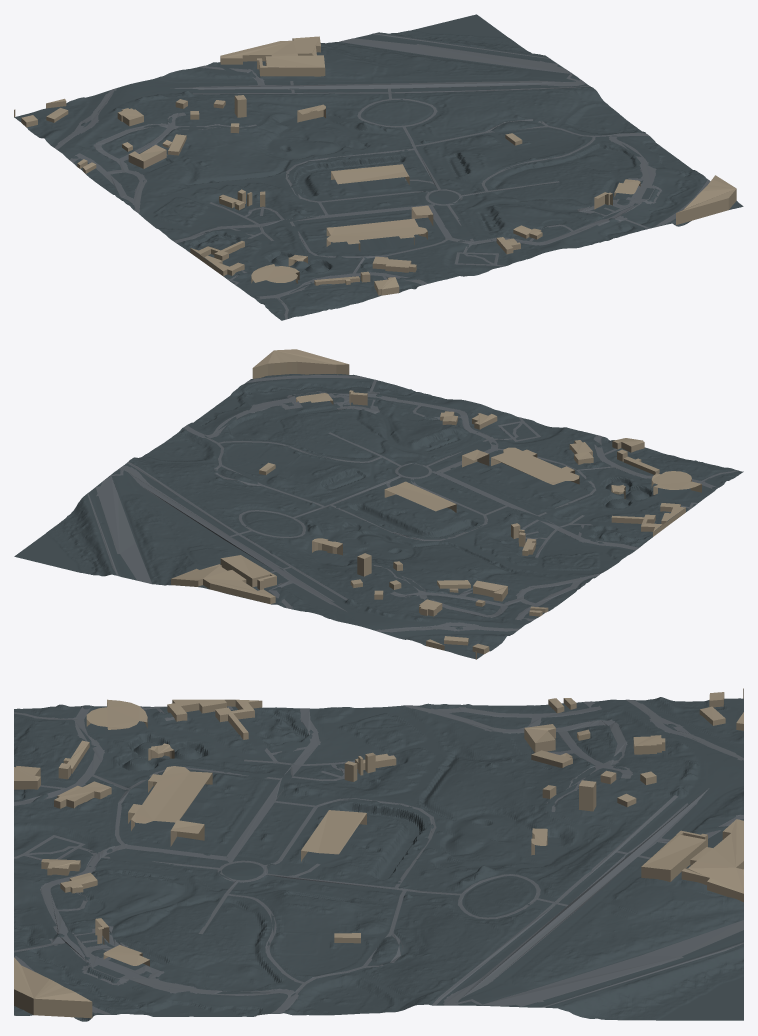
File: epsg26910-1416-10875.lod0.glb
3 views of the same model, one above another, from view 1: azimuth 30°, elevation 25°; view 2: azimuth 150°, elevation 25°; view 3: azimuth 270°, elevation 25° (orthographic). The views are drawn at different scales.
Visible parts, largest first — view 1: epsg26910-1416-10875-lod0; view 2: epsg26910-1416-10875-lod0; view 3: epsg26910-1416-10875-lod0.
Part boxes in pixels (x1,y1,x2,y2): epsg26910-1416-10875-lod0: (14, 14, 743, 320); epsg26910-1416-10875-lod0: (14, 349, 743, 659); epsg26910-1416-10875-lod0: (14, 688, 743, 1021).
Bounding box in the file's own units: 384 × 25.75 × 384.
